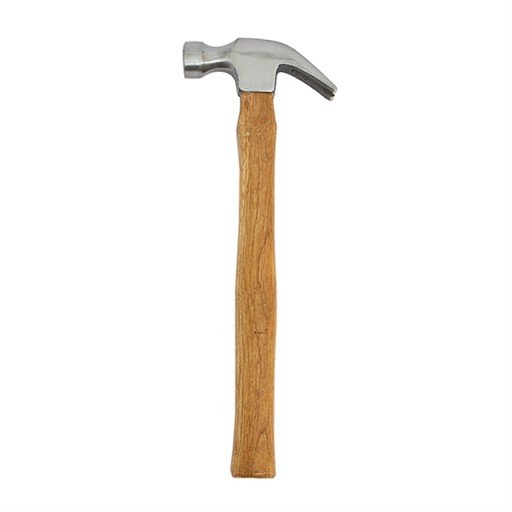hammer: (141, 27, 376, 495)
